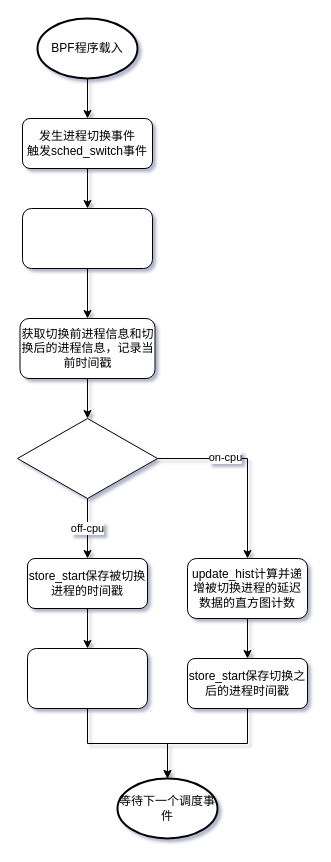
Image size: 331x862. Some labels were removed from this diagram. Each missing label, with the centre of its shape:
tracepoint探测事件 handle_switch处理进程切换事件: pixel 87 238
update_hist计算并递增当前进程的延迟数据的直方图计数: pixel 87 678
统计off-cpu或者on-cpu（用户态设定）: pixel 87 458
